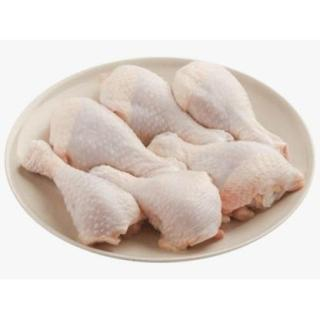Ayam: (20, 67, 299, 245), (20, 140, 147, 248), (150, 130, 303, 217), (175, 65, 292, 162), (92, 163, 226, 247), (106, 68, 232, 157), (53, 99, 172, 178)
